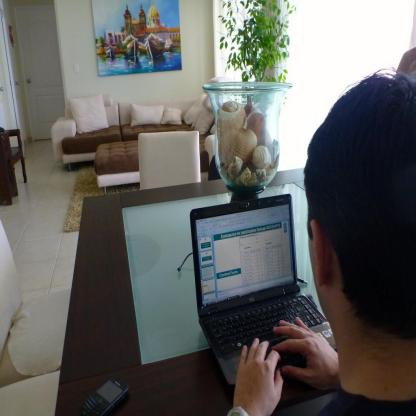board: (199, 187, 330, 401)
